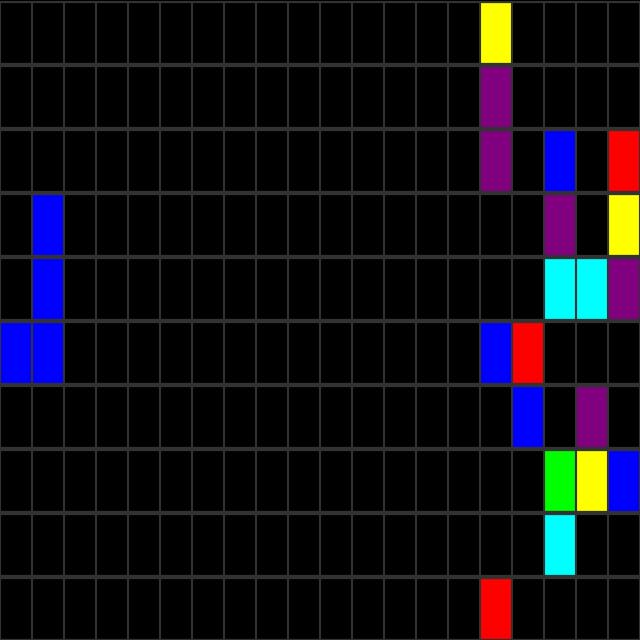Tetrimino_S: (0, 192, 64, 384)
